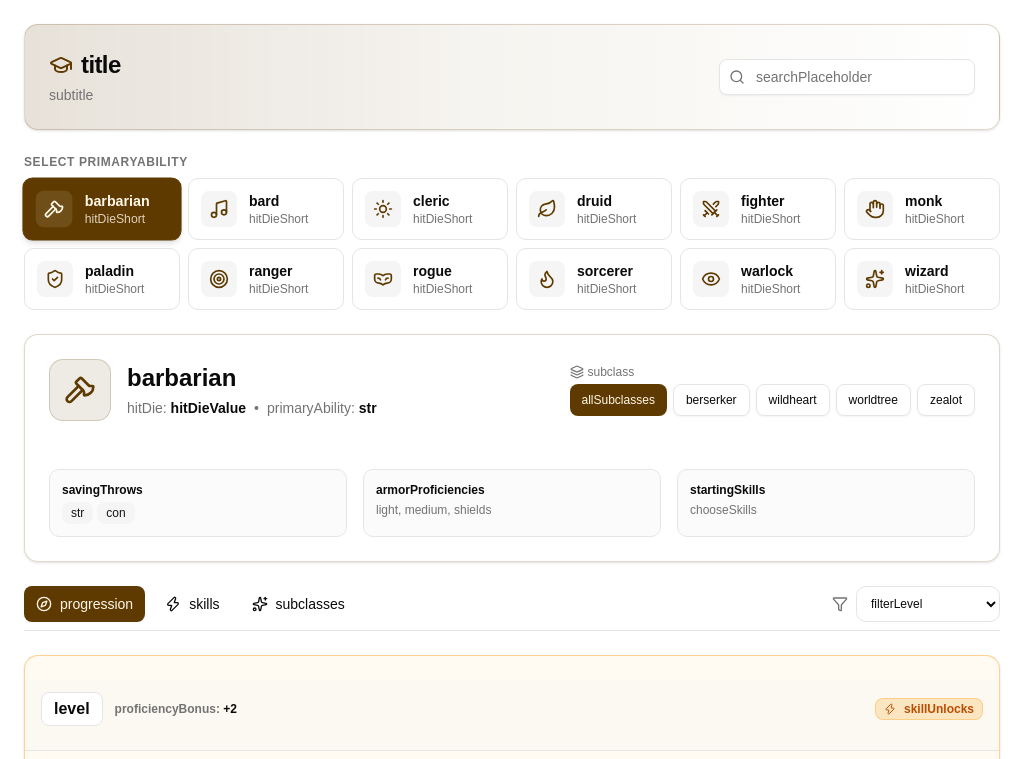
Test: WikiPage Component › switches active tabs between Progression, Skill Matrix, and Subclasses
Click the button "skills": x=192, y=604 [153,586,232,622]
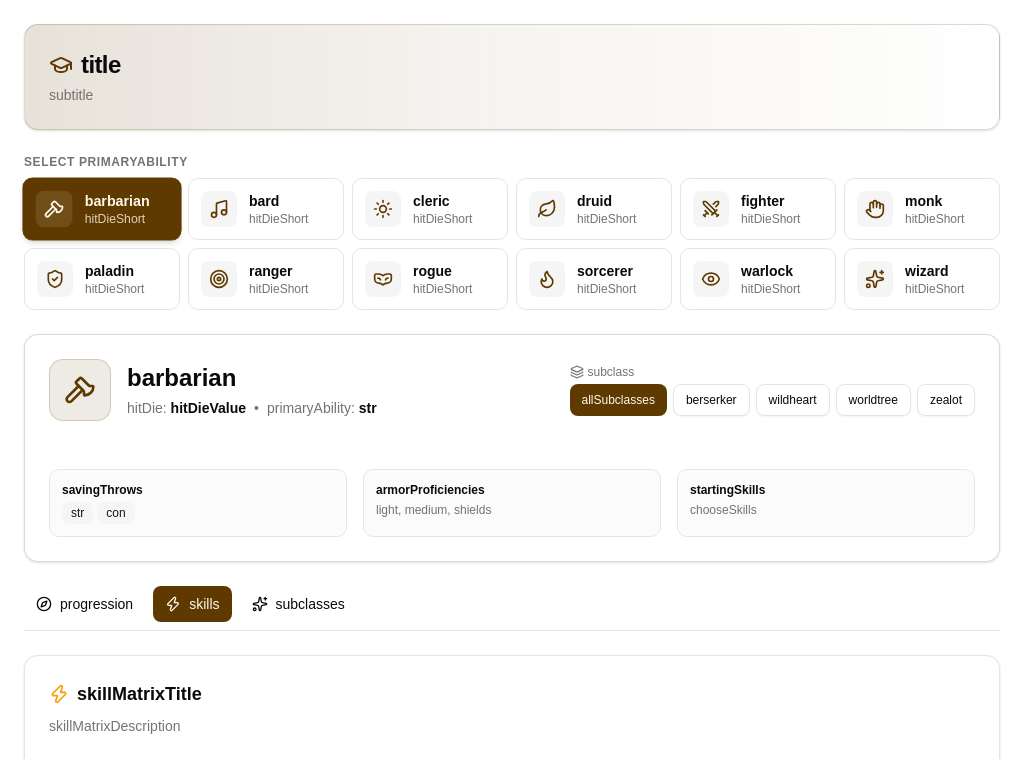
Expected: the text "skillMatrixTitle" is shown, [49,684,202,704]
Click the button "subclasses": x=298, y=604 [240,586,357,622]
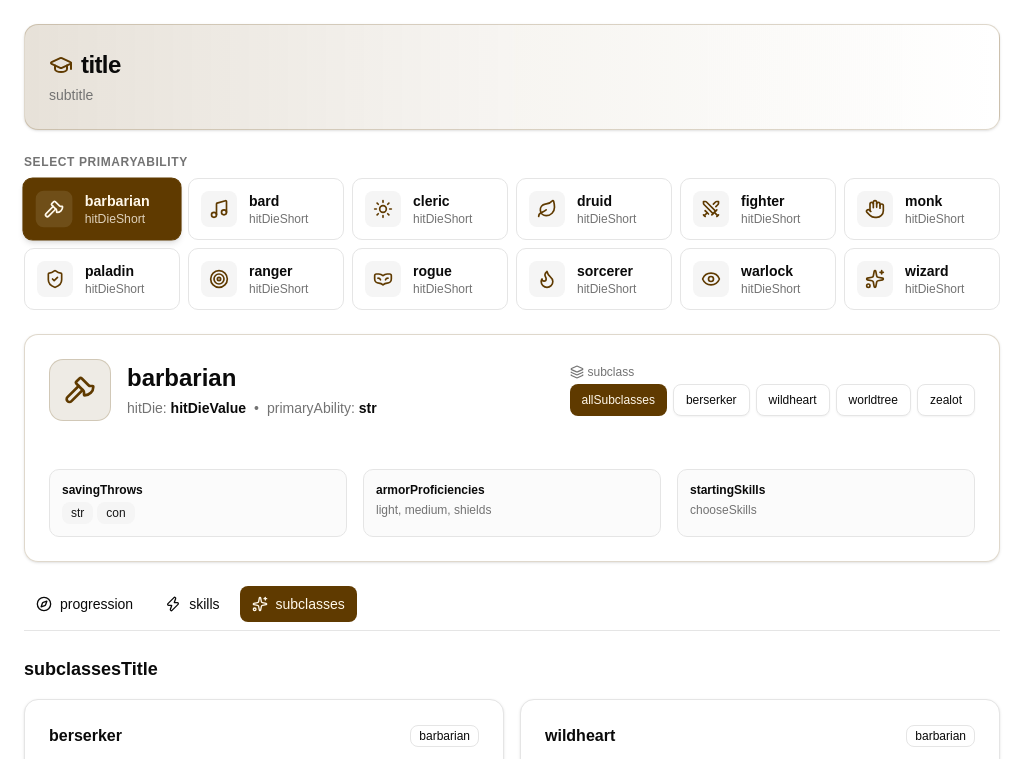
Expected: the heading "subclassesTitle" is shown, [24,659,158,679]
